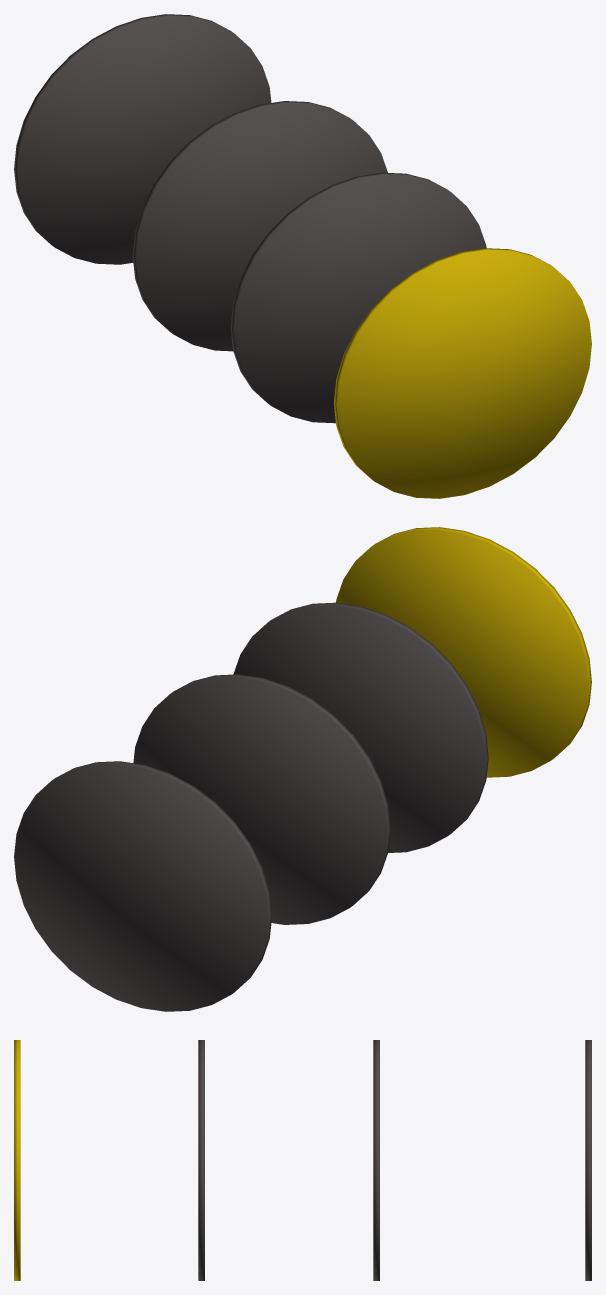
File: large-boiler-bands.dae
The picture shows the model from 3 angles, top to bottom: view 1: azimuth 30°, elevation 25°; view 2: azimuth 150°, elevation 25°; view 3: azimuth 270°, elevation 25°; orthographic projection. The views are drawn at different scales.
Parts seen in each view (by area): view 1: Cylinder_000, Cylinder_000_003, Cylinder_000_001, Cylinder_000_002; view 2: Cylinder_000_003, Cylinder_000_002, Cylinder_000, Cylinder_000_001; view 3: Cylinder_000_003, Cylinder_000_002, Cylinder_000_001, Cylinder_000.
Boxes of the visible parts, box(x1,y1,x2,y2) form: Cylinder_000: box(333, 248, 591, 498); Cylinder_000_003: box(14, 14, 271, 264); Cylinder_000_001: box(230, 172, 486, 423); Cylinder_000_002: box(132, 101, 387, 351); Cylinder_000_003: box(14, 761, 272, 1011); Cylinder_000_002: box(133, 674, 390, 924); Cylinder_000: box(336, 527, 591, 777); Cylinder_000_001: box(233, 602, 488, 852); Cylinder_000_003: box(585, 1040, 591, 1280); Cylinder_000_002: box(373, 1040, 379, 1280); Cylinder_000_001: box(198, 1040, 204, 1280); Cylinder_000: box(14, 1040, 20, 1280).
Bounding box in the file's own units: 1.5 × 3.31 × 1.36.
